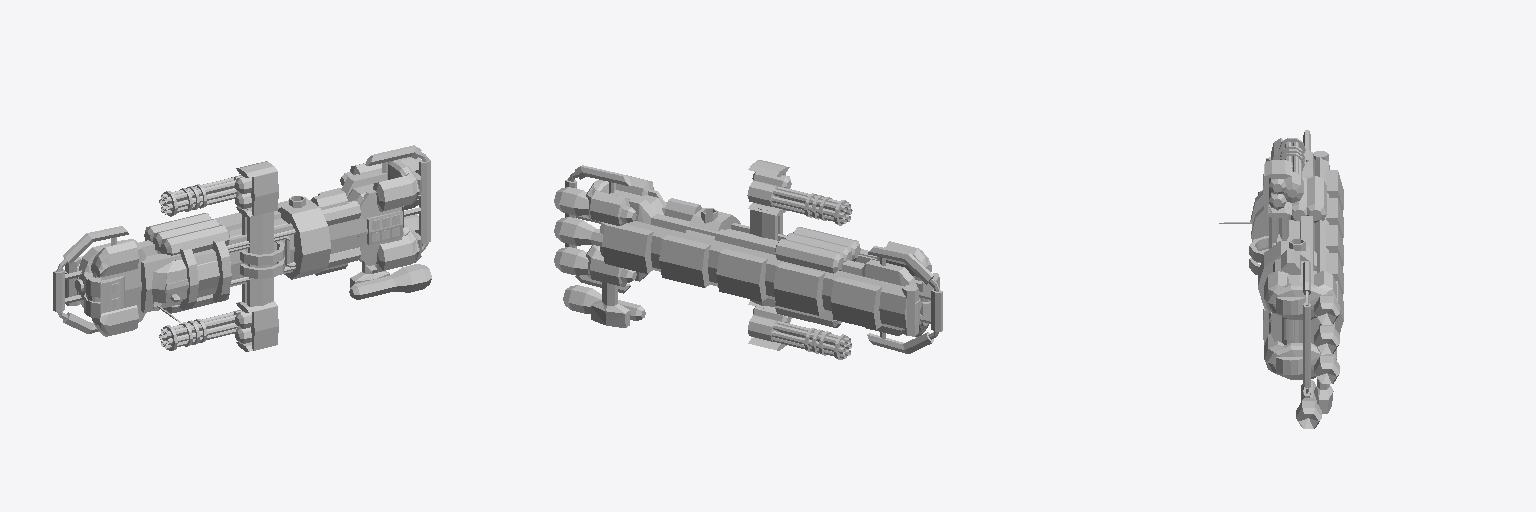
File: starblast-1540132327655.obj
The picture shows the model from 3 angles: view 1: azimuth 30°, elevation 25°; view 2: azimuth 150°, elevation 25°; view 3: azimuth 270°, elevation 25°; orthographic projection.
Bounding box in the file's own units: 2.63 × 1.19 × 0.77.